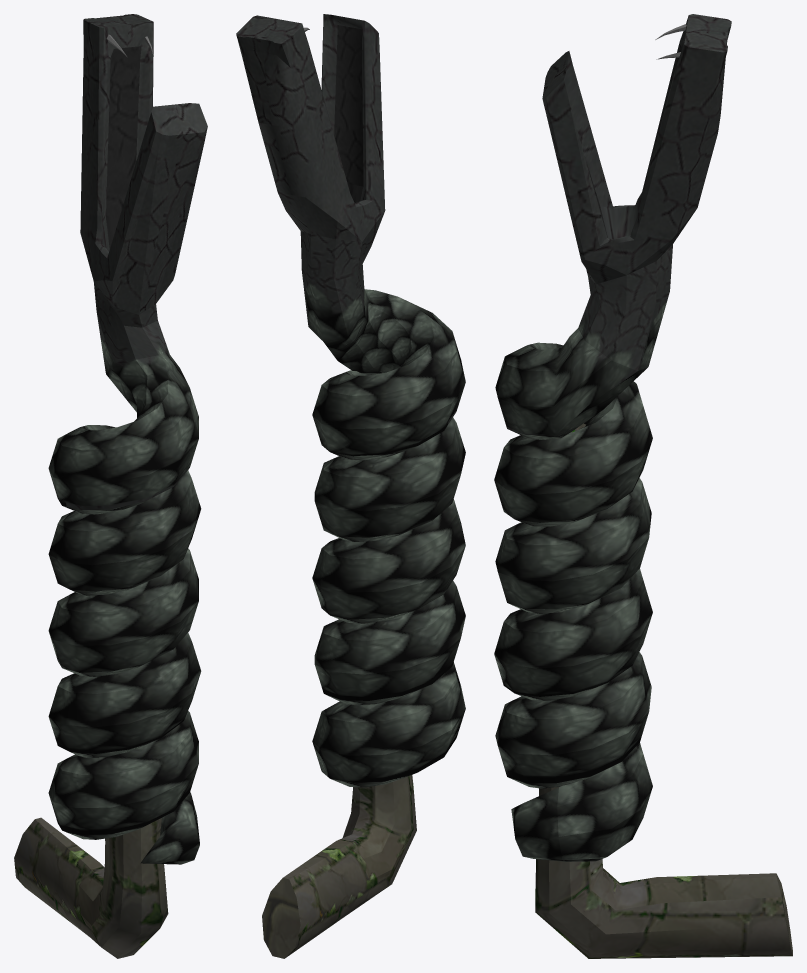
The model's file is SM_Torch.fbx.
The picture shows the model from 3 angles, left to right: view 1: azimuth 30°, elevation 25°; view 2: azimuth 150°, elevation 25°; view 3: azimuth 270°, elevation 25°; orthographic projection. The views are drawn at different scales.
Visible parts, largest first — view 1: pCylinder2; view 2: pCylinder2; view 3: pCylinder2.
Boxes of the visible parts, <box> form: pCylinder2: <box>14,14,207,958</box>; pCylinder2: <box>236,14,465,958</box>; pCylinder2: <box>494,14,792,958</box>.
Bounding box in the file's own units: 11.29 × 64.2 × 18.24.
